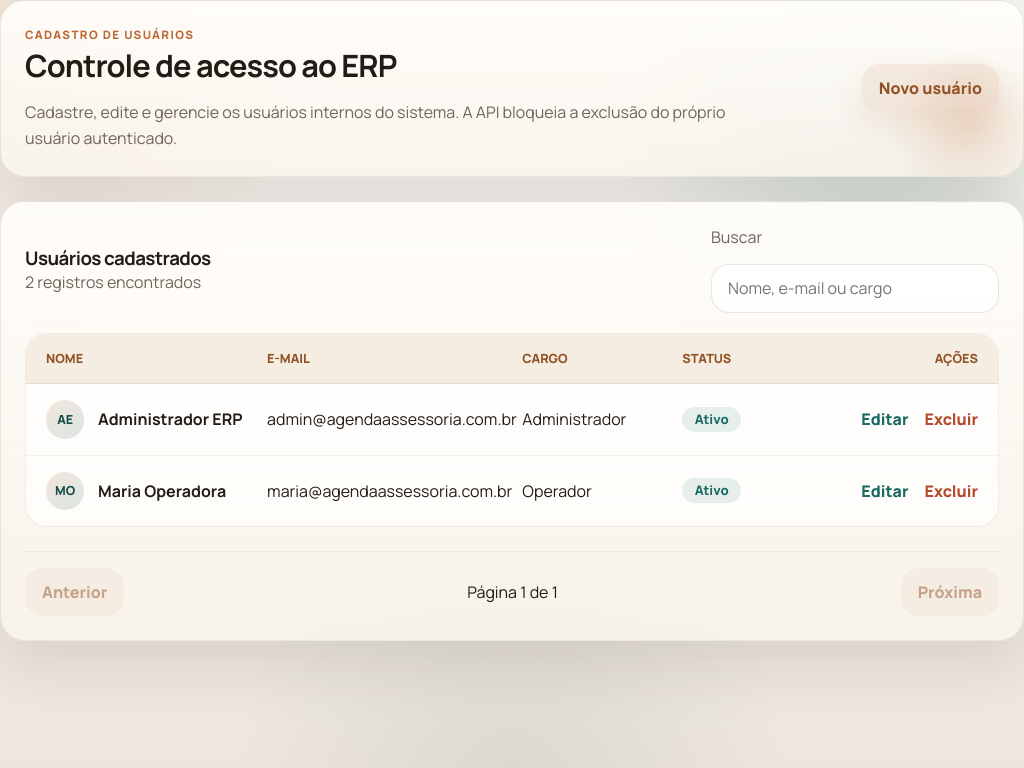
Test: PaginaUsuariosComponent › fecha o modal quando a exclusão é concluída com sucesso
Click the button with class "ui-botao--texto-alerta" in the row of "maria@agendaassessoria.com.br".
click(951, 491)  # box [924,480,978,502]
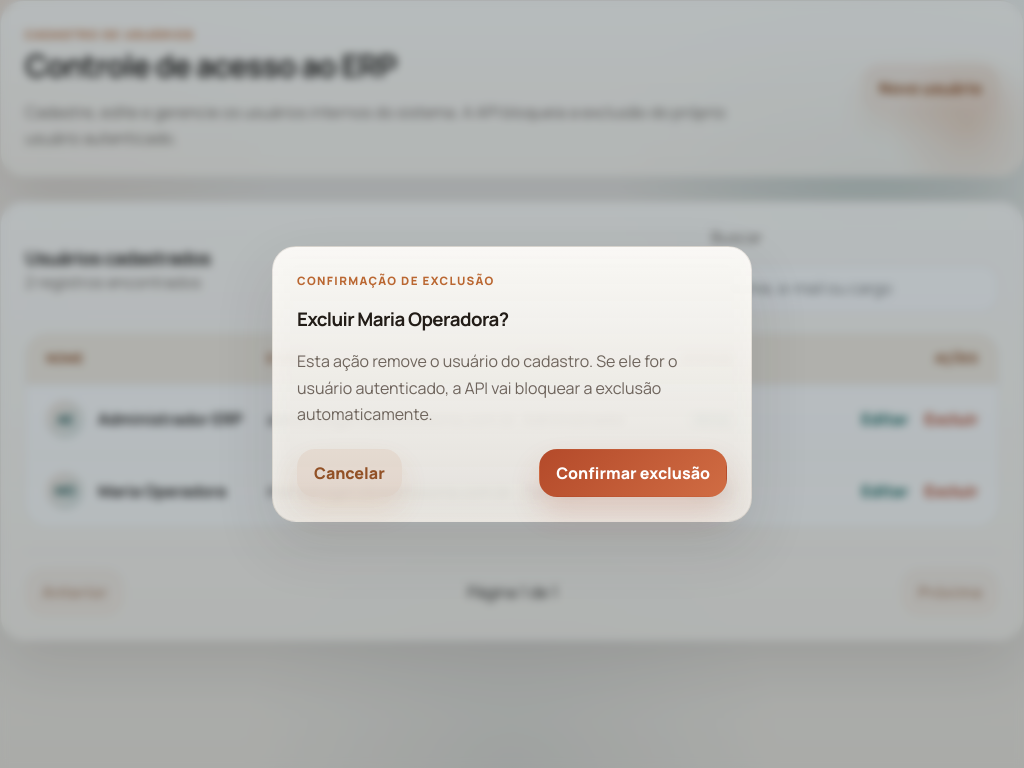
Click the button with class "ui-botao" showing "Confirmar exclusão".
click(633, 473)  # box [539,449,727,497]
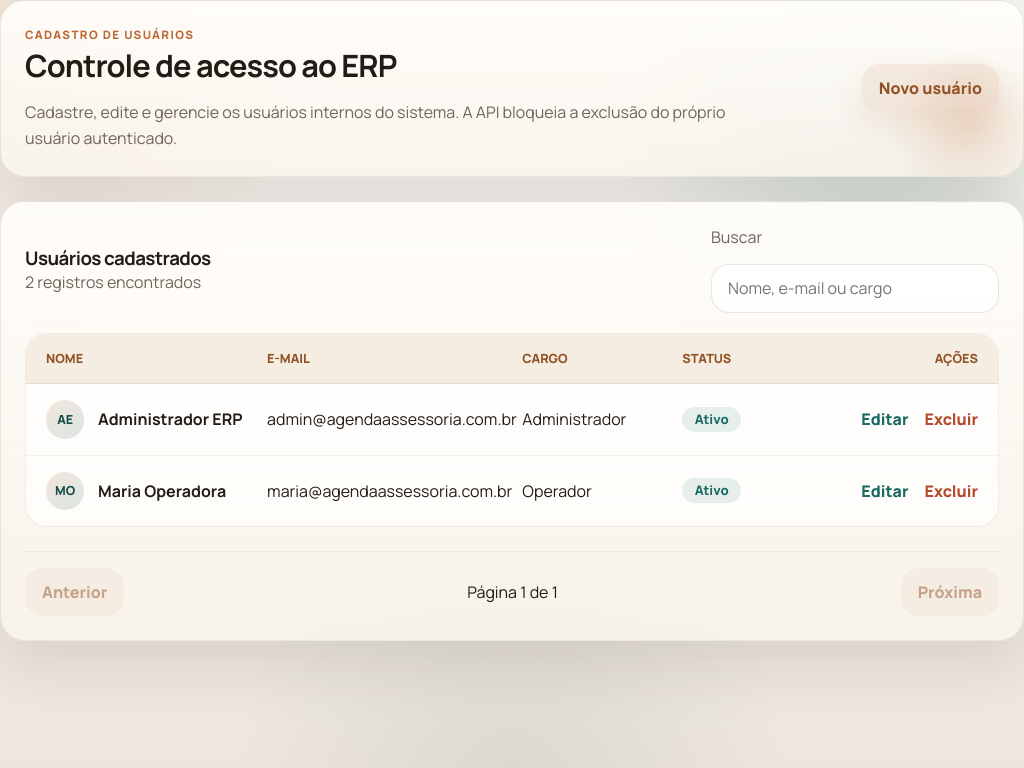
Check: the dialog with class "ui-modal" is gone
